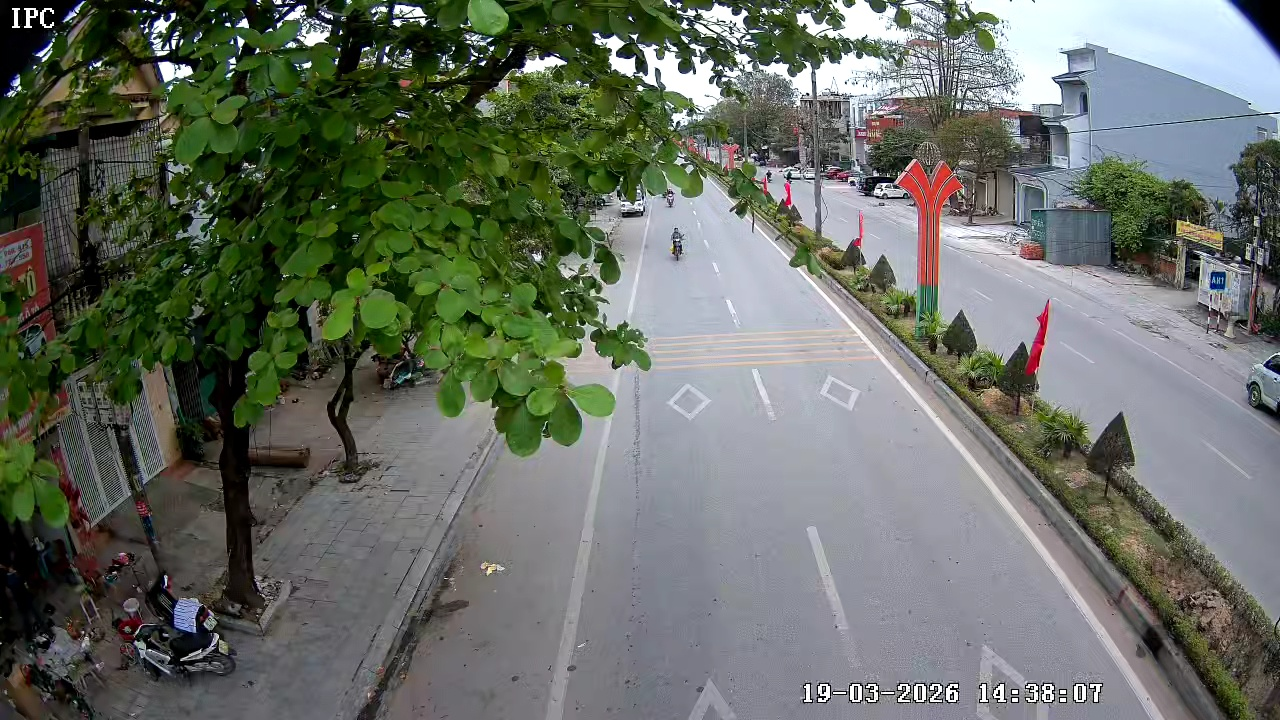car: (1244, 348, 1279, 453), (617, 197, 648, 218)
motorbike: (667, 223, 687, 261)
